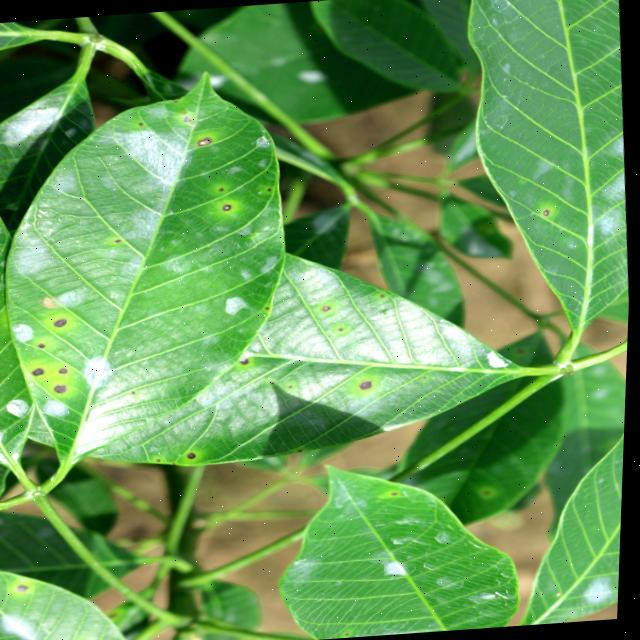Colletotrichum: (55, 316, 69, 326), (198, 137, 213, 145), (35, 366, 48, 375), (57, 383, 70, 392), (362, 379, 375, 388), (223, 202, 233, 210), (61, 366, 71, 373), (189, 451, 199, 458), (324, 304, 332, 310), (544, 208, 550, 214), (41, 342, 47, 347)
